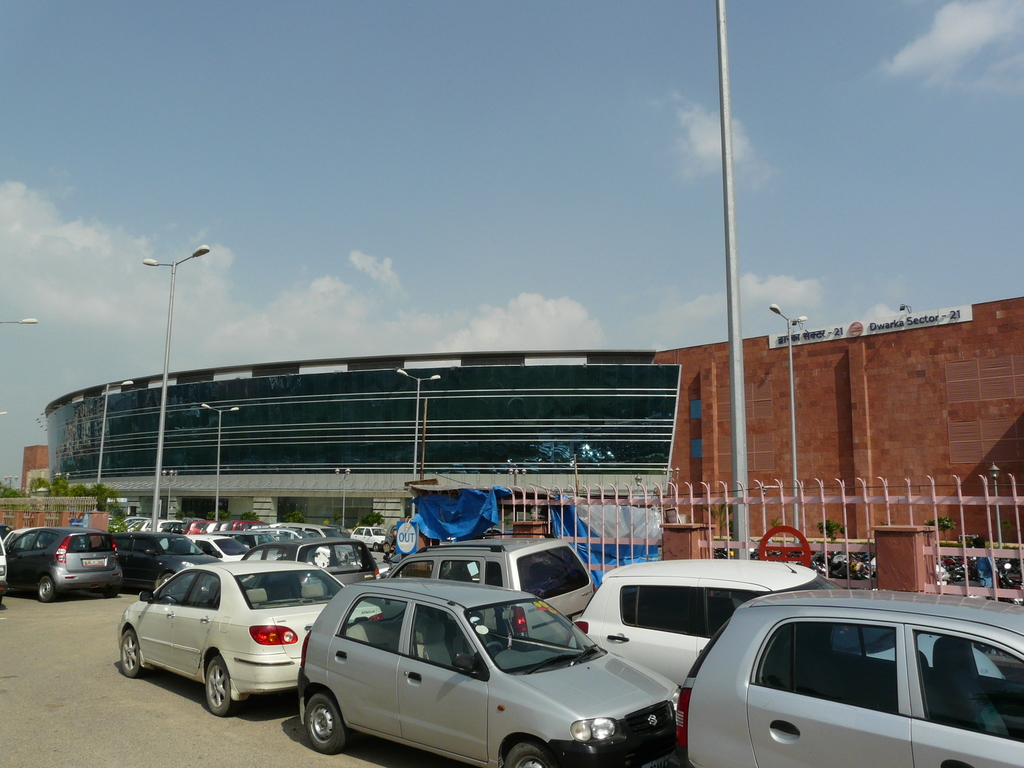Car: (0, 508, 1023, 767)
